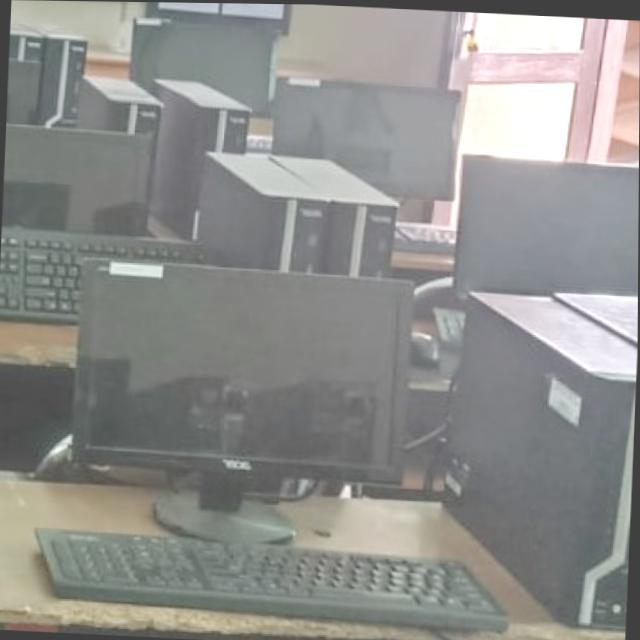offscreen: (78, 260, 407, 477), (454, 153, 639, 293), (273, 79, 457, 197), (131, 19, 277, 106)
